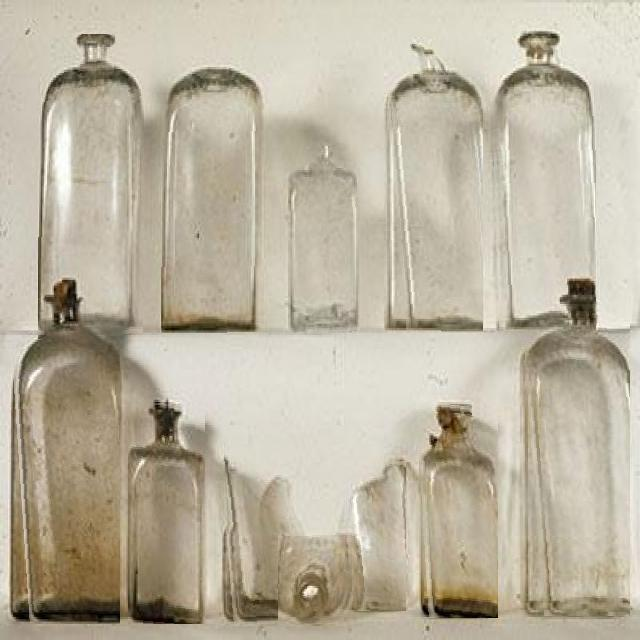Glass: (8, 296, 120, 624), (520, 292, 630, 616), (38, 34, 145, 339), (491, 31, 596, 332), (384, 40, 484, 333), (161, 64, 264, 334), (416, 401, 498, 618), (127, 400, 205, 624), (288, 143, 360, 334), (220, 454, 289, 625), (339, 456, 406, 612), (278, 533, 352, 625)
